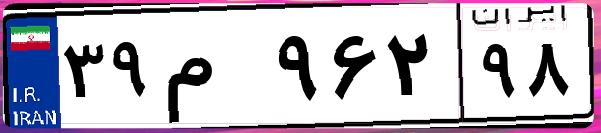2: (385, 28, 445, 110)
3: (57, 26, 110, 100)
6: (330, 28, 385, 110)
8: (525, 38, 570, 115)
9: (270, 28, 330, 110), (475, 38, 525, 113), (110, 28, 158, 98)
م: (158, 20, 270, 120)
